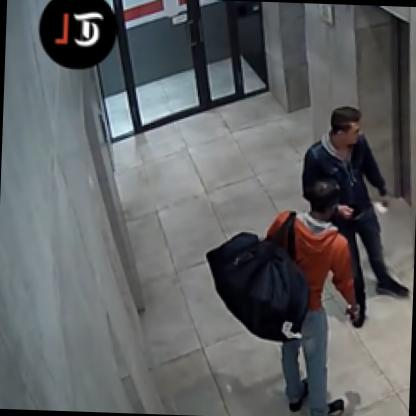Human Body: (296, 103, 415, 332), (262, 182, 368, 415)
